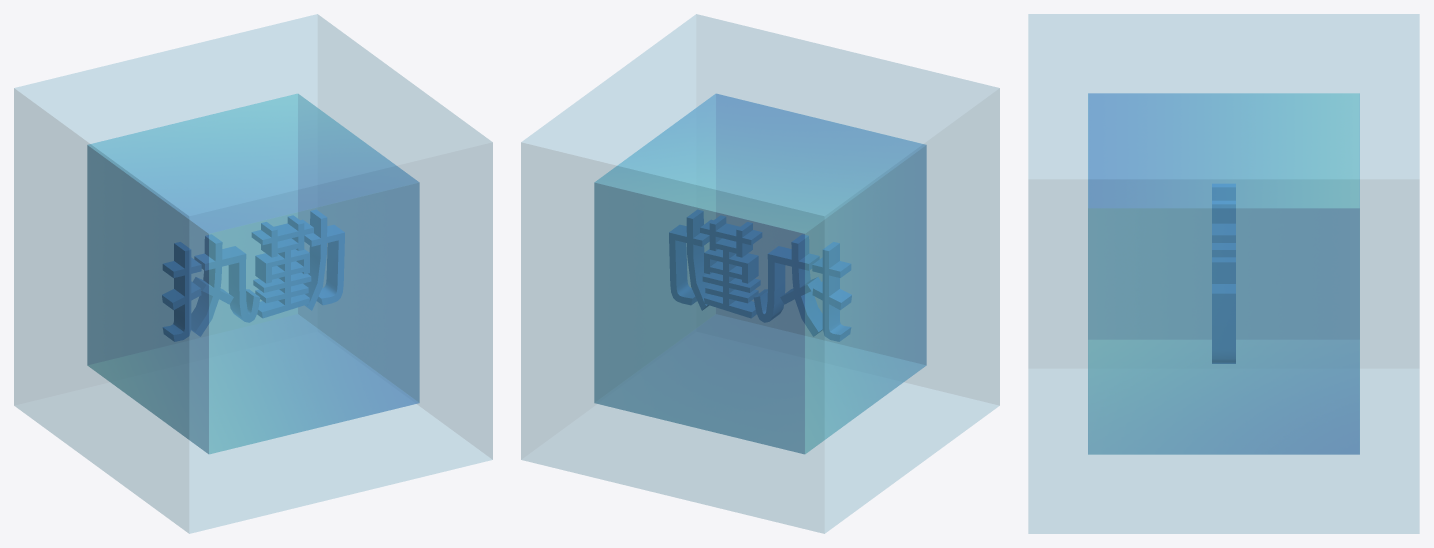
File: zhiqin.8085a57.glb
3 renders of one model, left to right at view 1: azimuth 30°, elevation 25°; view 2: azimuth 150°, elevation 25°; view 3: azimuth 270°, elevation 25°, orthographic. The views are drawn at different scales.
Parts seen in each view (by area): view 1: Box012, 执勤001, Text004; view 2: Box012, 执勤001, Text004; view 3: Box012, 执勤001, Text004.
Part boxes in pixels (box(x1,y1,x2,y2)): Box012: box(14, 14, 492, 533); 执勤001: box(87, 93, 419, 454); Text004: box(162, 209, 344, 341); Box012: box(521, 14, 999, 533); 执勤001: box(594, 93, 926, 454); Text004: box(669, 209, 851, 341); Box012: box(1028, 14, 1419, 533); 执勤001: box(1088, 93, 1359, 454); Text004: box(1212, 184, 1235, 363).
Bounding box in the file's own units: 0.6451 × 0.6451 × 0.6451.
3 materials, 2 textured.
